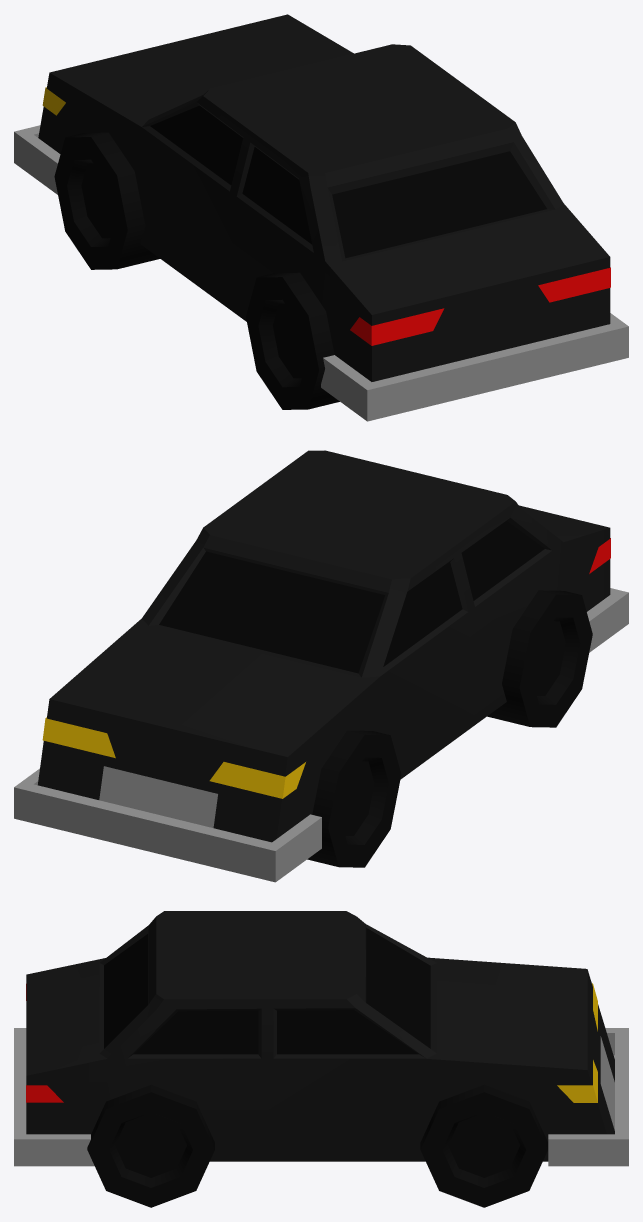
The model's file is Car_A.FBX.
3 views of the same model, one above another, from view 1: azimuth 30°, elevation 25°; view 2: azimuth 150°, elevation 25°; view 3: azimuth 270°, elevation 25° (orthographic). The views are drawn at different scales.
Parts seen in each view (by area): view 1: Car; view 2: Car; view 3: Car.
Part boxes in pixels (bbox=[...]): Car: bbox=[14, 14, 628, 421]; Car: bbox=[14, 450, 628, 882]; Car: bbox=[14, 911, 628, 1207].
Bounding box in the file's own units: 26.76 × 20.89 × 59.84.
